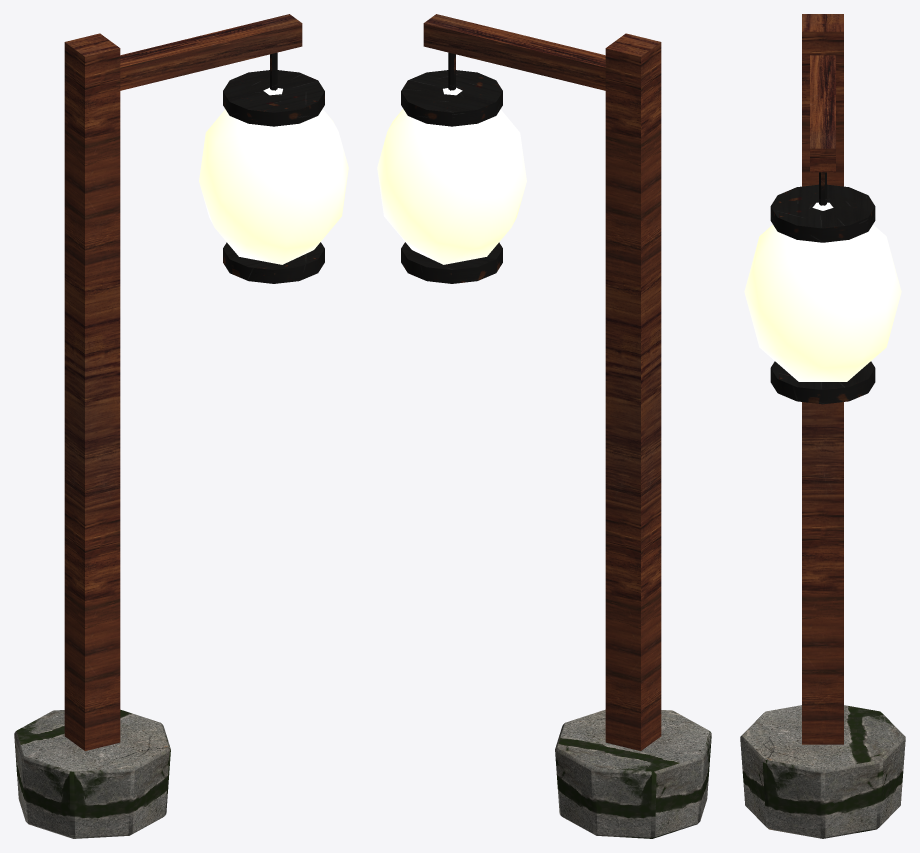
The model's file is LanternPost.fbx.
3 renders of one model, left to right at view 1: azimuth 30°, elevation 25°; view 2: azimuth 150°, elevation 25°; view 3: azimuth 270°, elevation 25°, orthographic. The views are drawn at different scales.
Parts seen in each view (by area): view 1: LanternPost_LOD0; view 2: LanternPost_LOD0; view 3: LanternPost_LOD0.
Part boxes in pixels (<box>): LanternPost_LOD0: <box>14,14,348,838</box>; LanternPost_LOD0: <box>377,14,711,838</box>; LanternPost_LOD0: <box>740,14,905,838</box>.
Size of what is drawn, in the model's own units: 1.42 by 3.3 by 0.631.
